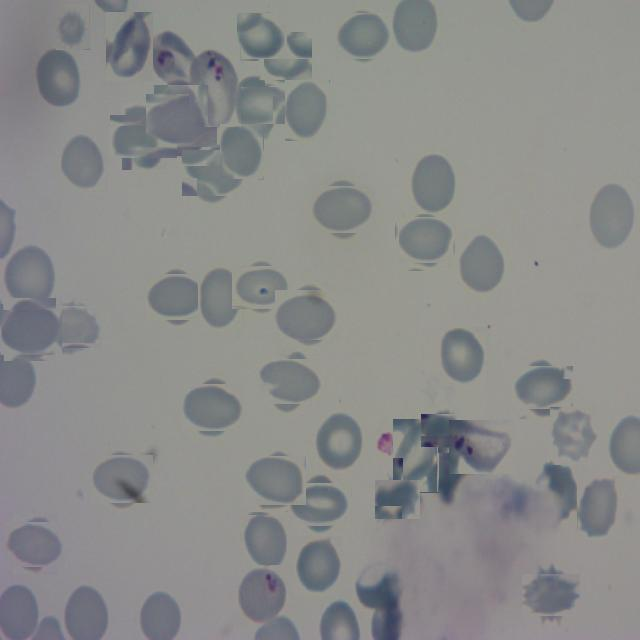leukocyte: (150, 89, 212, 152), (3, 243, 57, 310), (392, 419, 438, 493), (278, 286, 336, 344), (589, 182, 637, 252), (1, 301, 58, 358), (106, 12, 153, 81), (315, 410, 365, 474), (184, 380, 240, 436), (186, 145, 242, 201), (247, 453, 303, 509), (316, 181, 372, 237), (262, 354, 318, 410), (458, 233, 507, 296), (116, 109, 172, 164), (35, 46, 83, 110), (409, 151, 457, 214), (198, 266, 244, 331), (293, 478, 347, 532), (150, 270, 204, 324), (96, 452, 150, 506), (534, 461, 578, 527), (294, 536, 342, 596), (438, 327, 486, 387), (398, 214, 451, 268), (9, 518, 62, 571), (285, 80, 330, 142), (516, 361, 568, 414), (577, 476, 620, 540), (550, 407, 597, 465), (338, 10, 390, 62), (236, 261, 288, 313), (61, 134, 107, 192), (47, 302, 98, 353), (526, 569, 576, 620), (230, 81, 280, 131), (220, 124, 264, 180), (262, 35, 310, 83), (240, 515, 286, 565), (238, 12, 286, 59), (375, 480, 421, 520), (56, 4, 90, 50), (424, 411, 463, 450)
red blood cell: (189, 47, 241, 127), (449, 420, 515, 474), (238, 566, 288, 624), (148, 30, 199, 86)
